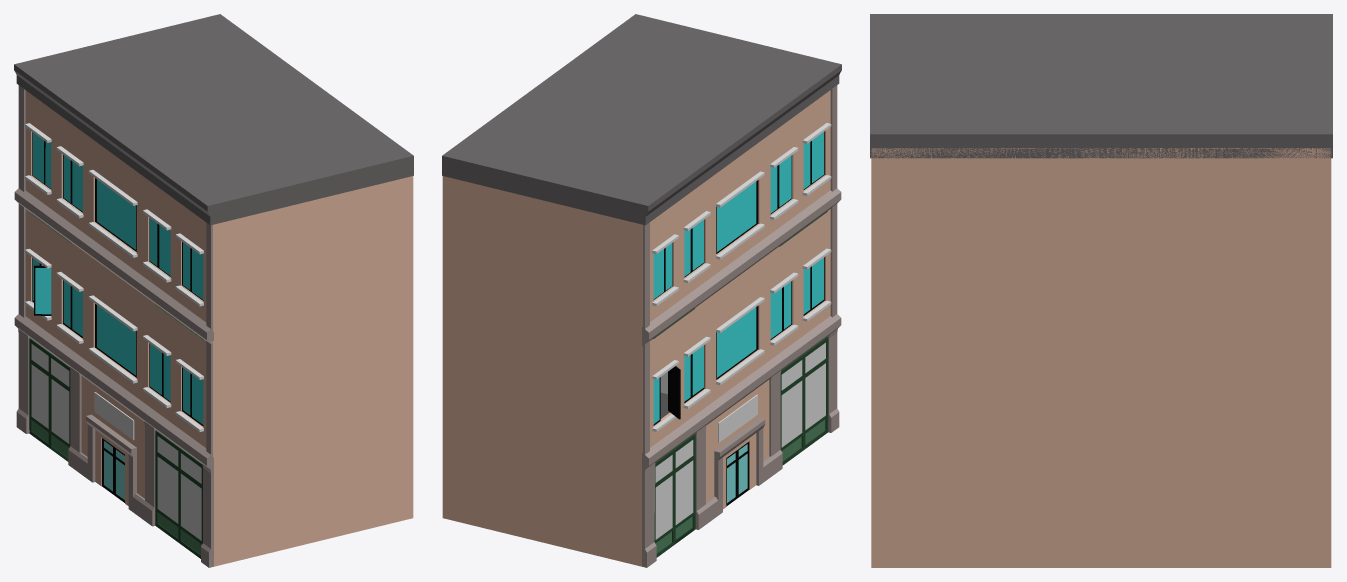
Rendered from Residential building2.fbx.
The picture shows the model from 3 angles, left to right: view 1: azimuth 30°, elevation 25°; view 2: azimuth 150°, elevation 25°; view 3: azimuth 270°, elevation 25°; orthographic projection. The views are drawn at different scales.
Visible parts, largest first — view 1: Cube, Cube.025, Cube.019, Cube.026, Cube.010, Cube.007, Cube.023, Cube.024, Cube.020, Cube.018, Cube.021, Cube.022 (+7 smaller); view 2: Cube, Cube.025, Cube.019, Cube.026, Cube.010, Cube.007, Cube.023, Cube.024, Cube.020, Cube.018, Cube.021, Cube.022 (+7 smaller); view 3: Cube, Cube.019, Cube.025.
Part boxes in pixels (x1,y1,x2,y2): Cube: (14,204,413,567); Cube.025: (14,14,413,225); Cube.019: (14,85,413,343); Cube.026: (31,344,201,540); Cube.010: (25,123,203,306); Cube.007: (25,248,203,431); Cube.023: (95,304,136,377); Cube.024: (95,178,136,251); Cube.020: (182,367,203,426); Cube.018: (149,343,170,402); Cube.021: (149,218,170,276); Cube.022: (182,242,203,300); Cube: (442,204,841,567); Cube.025: (442,14,841,225); Cube.019: (442,85,841,345); Cube.026: (655,342,825,539); Cube.010: (652,123,831,306); Cube.007: (652,248,831,431); Cube.023: (716,306,758,379); Cube.024: (716,180,758,253); Cube.020: (803,257,824,315); Cube.018: (770,281,791,339); Cube.021: (770,155,791,214); Cube.022: (803,131,824,189); Cube: (871,298,1331,567); Cube.019: (871,148,1331,303); Cube.025: (870,14,1332,158).
Size of the model in its own units: 2261 by 3716 by 3570.
